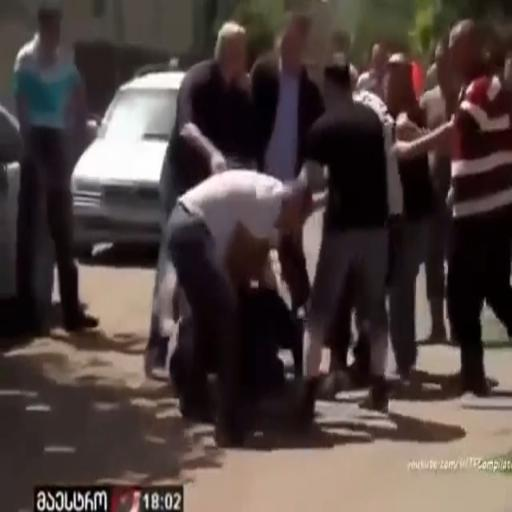violencia: (153, 159, 331, 453)
